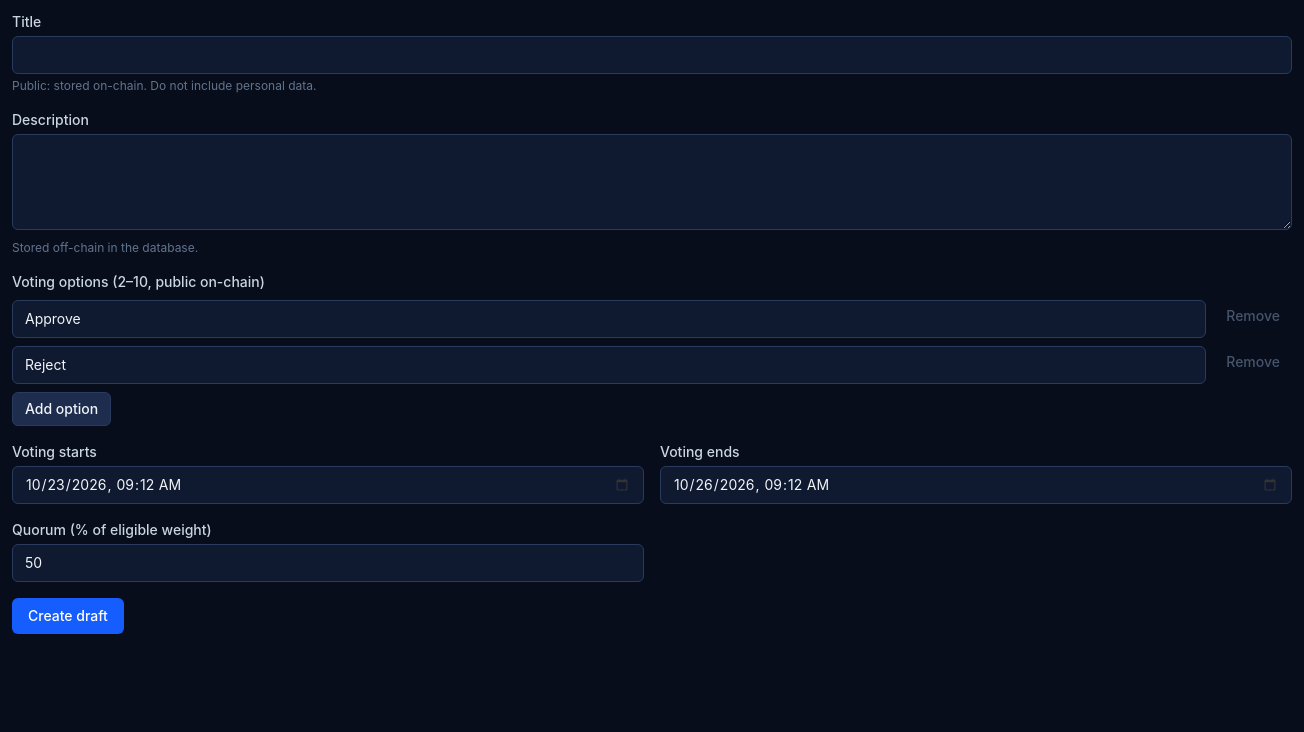
Test case: ElectionForm validation › rejects duplicate option labels
Type "Board vote" into the field labelled "Title".
click(652, 55); type("Board vote")  # box [12,36,1292,74]
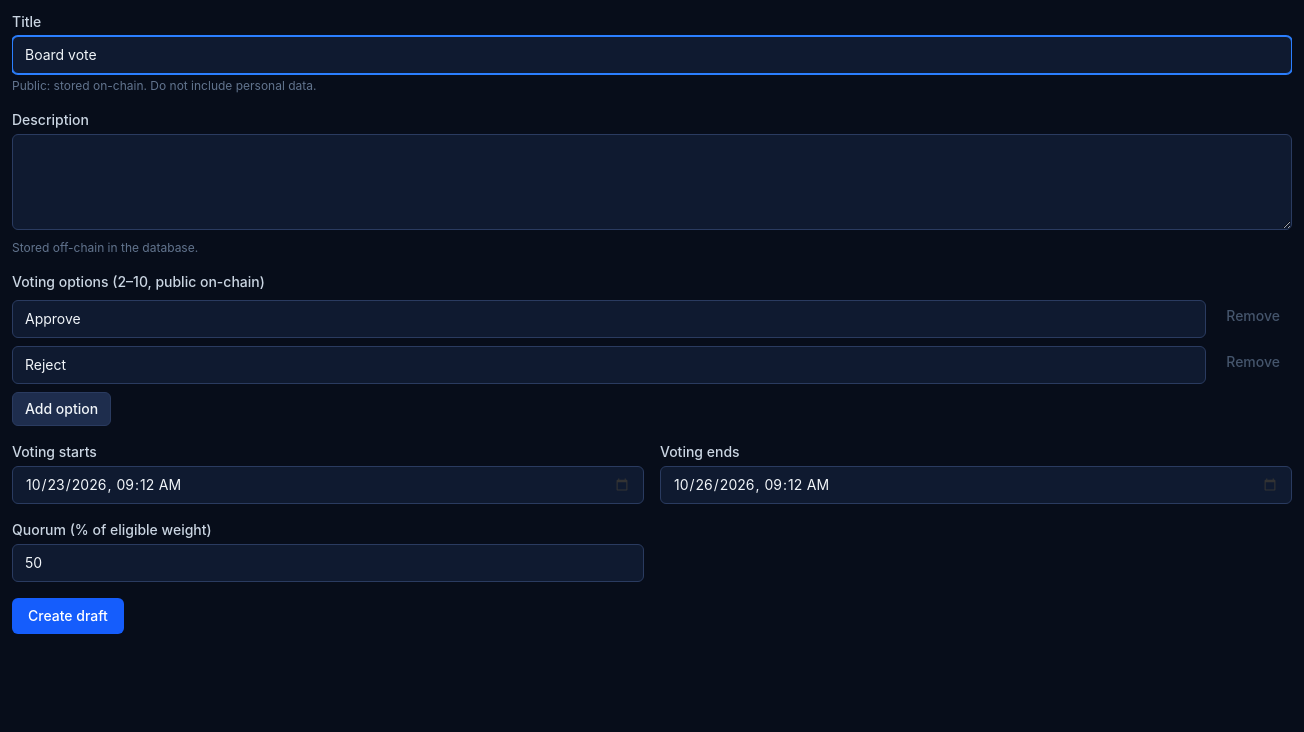
Replace the text in the 2nd field named "Option 2" with "approve" at (609, 365), box [12,346,1206,384]
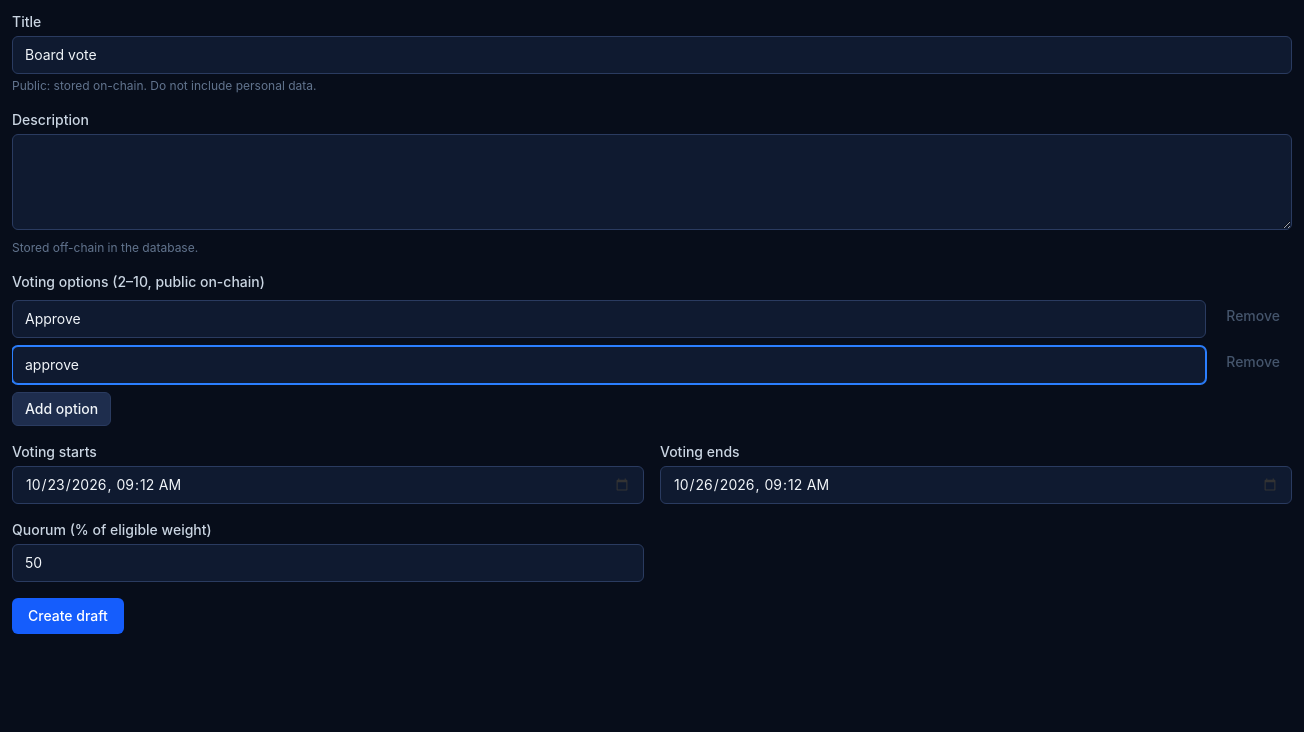
Click the button "Create draft".
click(68, 616)  # box [12,598,124,634]
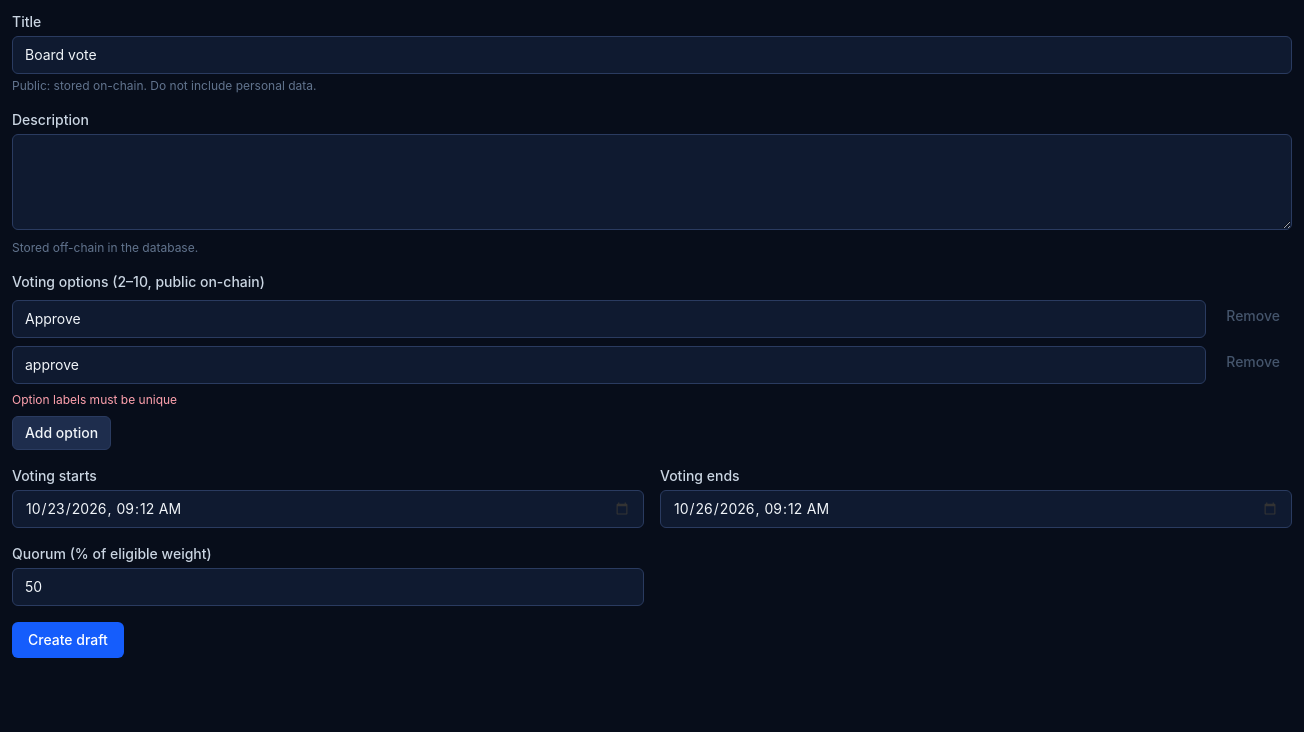
Now the text "Option labels must be unique" is shown, box [12,392,177,407]
